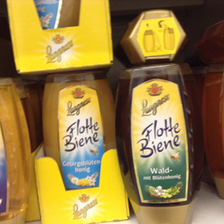honey: (117, 65, 200, 224), (40, 75, 120, 199)
